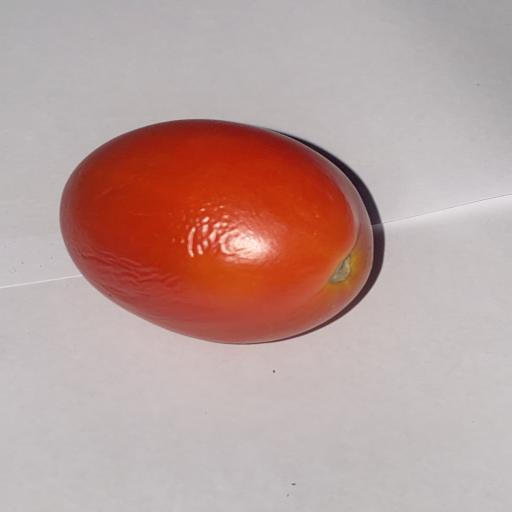ripe: (60, 120, 373, 343)
spoiled: (60, 120, 373, 343)
